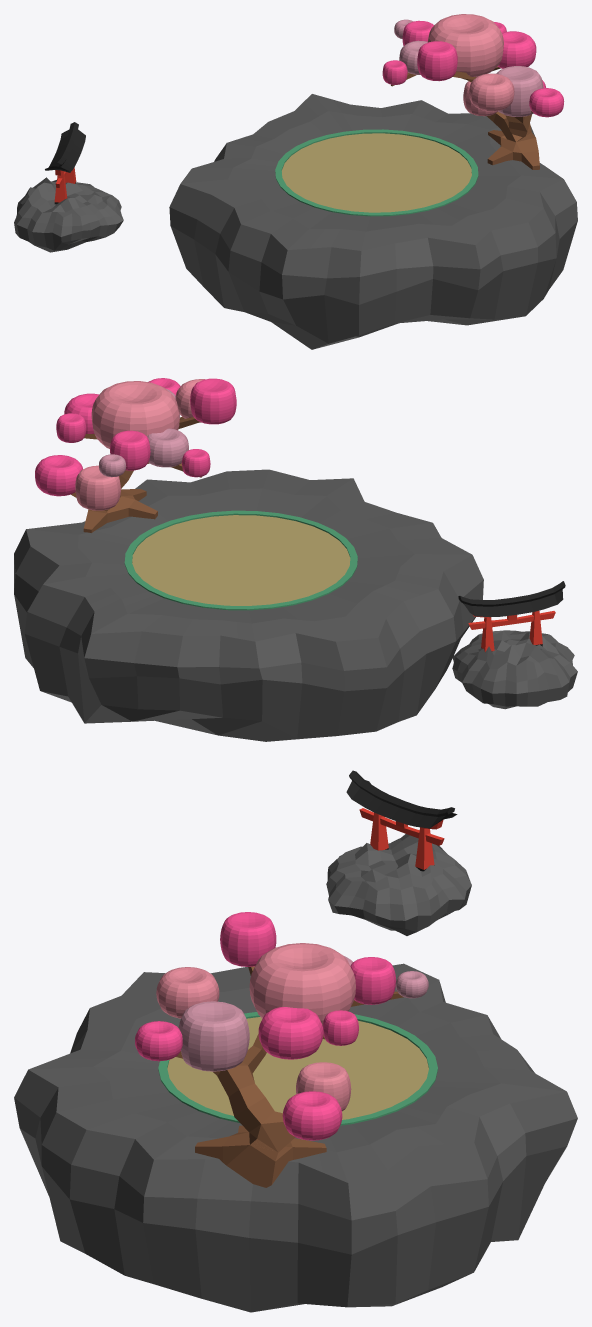
The model's file is HomeTown_002.fbx.
The picture shows the model from 3 angles, top to bottom: view 1: azimuth 30°, elevation 25°; view 2: azimuth 150°, elevation 25°; view 3: azimuth 270°, elevation 25°; orthographic projection. The views are drawn at different scales.
Parts seen in each view (by area): view 1: GroundRock, GroundInnerRing, ToriiRock, PinkBlossom, GroundRing, TreeTrunk, Torii, Blossom_0.005, Blossom_1.001, Blossom_1.005, Blossom_0.006, Blossom_0.004 (+3 smaller); view 2: GroundRock, GroundInnerRing, ToriiRock, PinkBlossom, GroundRing, Torii, TreeTrunk, Blossom_1.001, Blossom_1.003, Blossom_0.007, Blossom_0.002, Blossom_1.002 (+5 smaller); view 3: GroundRock, GroundInnerRing, ToriiRock, TreeTrunk, PinkBlossom, Blossom_1.005, Torii, Blossom_0.006, Blossom_1.001, GroundRing, Blossom_0.007, Blossom_0.005 (+5 smaller).
Part boxes in pixels (left/top/right/bottom): GroundRock: left=169, top=94, right=577, bottom=349; GroundInnerRing: left=282, top=133, right=471, bottom=212; ToriiRock: left=14, top=177, right=123, bottom=252; PinkBlossom: left=427, top=14, right=503, bottom=77; GroundRing: left=275, top=129, right=478, bottom=216; TreeTrunk: left=391, top=66, right=539, bottom=169; Torii: left=45, top=122, right=85, bottom=204; Blossom_0.005: left=469, top=73, right=514, bottom=111; Blossom_1.001: left=417, top=41, right=457, bottom=81; Blossom_1.005: left=496, top=66, right=543, bottom=116; Blossom_0.006: left=497, top=31, right=536, bottom=68; Blossom_0.004: left=529, top=88, right=564, bottom=117; GroundRock: left=14, top=469, right=483, bottom=741; GroundInnerRing: left=132, top=515, right=350, bottom=605; ToriiRock: left=452, top=630, right=577, bottom=709; PinkBlossom: left=91, top=381, right=179, bottom=448; GroundRing: left=124, top=510, right=357, bottom=610; Torii: left=458, top=581, right=565, bottom=652; TreeTrunk: left=71, top=417, right=202, bottom=532; Blossom_1.001: left=190, top=378, right=236, bottom=424; Blossom_1.003: left=75, top=465, right=120, bottom=510; Blossom_0.007: left=35, top=455, right=82, bottom=496; Blossom_0.002: left=147, top=428, right=188, bottom=467; Blossom_1.002: left=110, top=430, right=150, bottom=470; GroundRock: left=14, top=963, right=577, bottom=1312; GroundInnerRing: left=167, top=1017, right=428, bottom=1119; ToriiRock: left=326, top=834, right=471, bottom=935; TreeTrunk: left=176, top=966, right=403, bottom=1187; PinkBlossom: left=249, top=943, right=355, bottom=1025; Blossom_1.005: left=178, top=1001, right=249, bottom=1071; Torii: left=346, top=770, right=457, bottom=871; Blossom_0.006: left=258, top=1007, right=323, bottom=1059; Blossom_1.001: left=220, top=912, right=276, bottom=966; GroundRing: left=158, top=1012, right=437, bottom=1125; Blossom_0.007: left=282, top=1091, right=342, bottom=1140; Blossom_0.005: left=156, top=967, right=219, bottom=1018.
Size of the model in its own units: 22.65 by 16.05 by 10.82.
